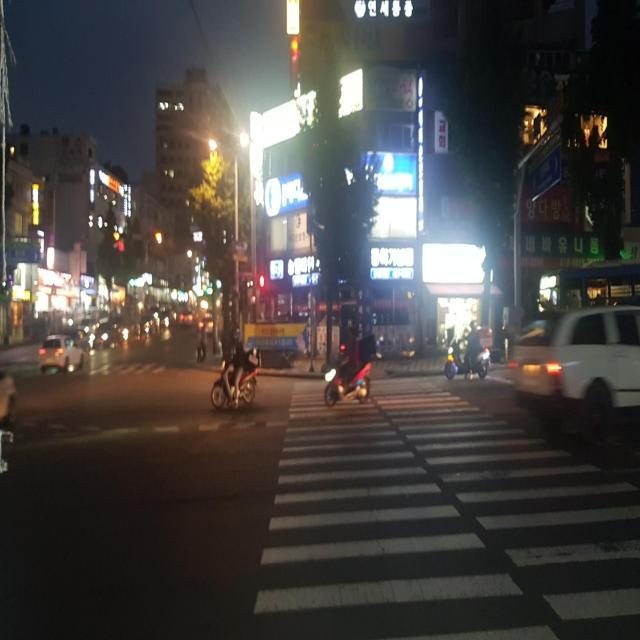빨간불: (259, 274, 267, 304)
횡단보도: (252, 376, 640, 640)
